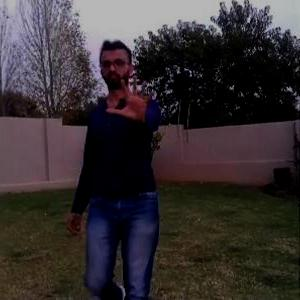follow_hand: (105, 68, 163, 123)
